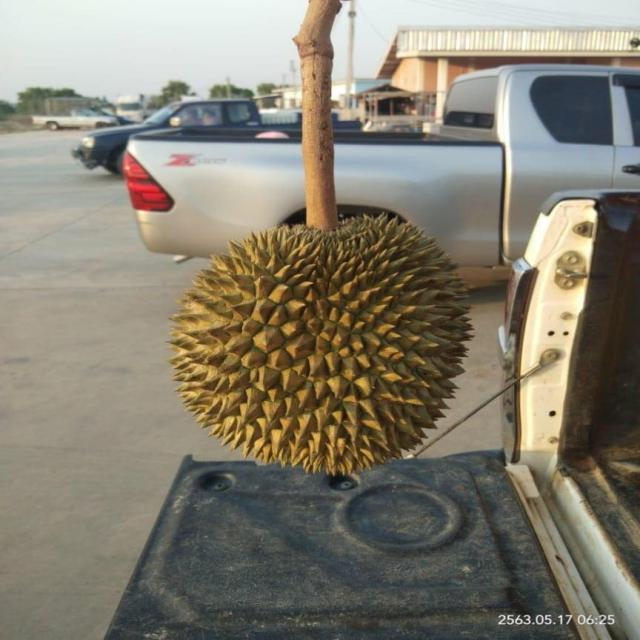mature: (170, 207, 478, 480)
